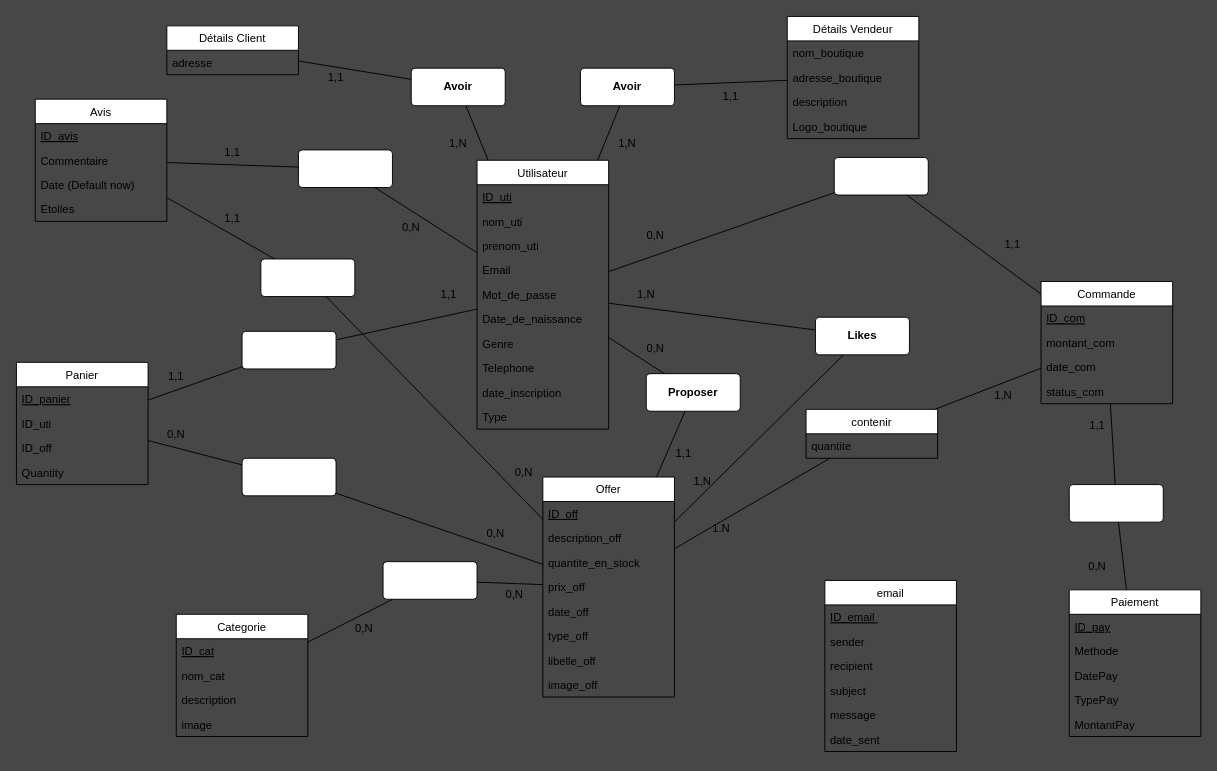
Image size: 1217x771. Some labels were removed from this diagram. The shapes that lost their labels are listed below. From the top down, each one's centre as x and y in pixels, then its label:
At pixel 345 168: "Donner".
At pixel 880 176: "Passer".
At pixel 307 277: "Évaluer".
At pixel 288 349: "Posseder".
At pixel 288 476: "Inclure".
At pixel 1115 503: "Payer".
At pixel 429 580: "Appartenir".
